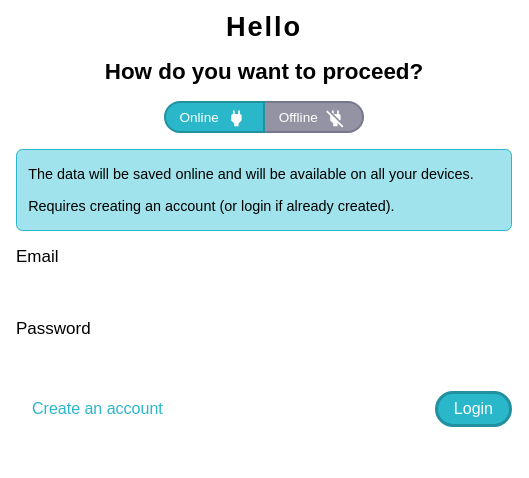
Test case: <Auth /> › online mode › should display email error message when click on submit button but email is empty
What coordinates should you click on to do the following:
click the button "Login"
I would click on:
 (473, 409)
Its box is [435,391,512,427].
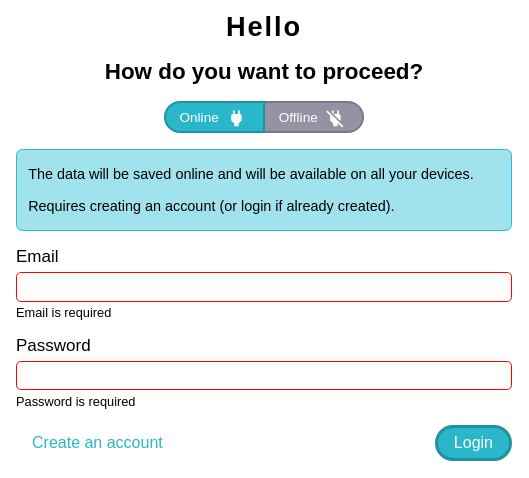
Expected: the text "Email is required" is shown, [16,305,111,320]
